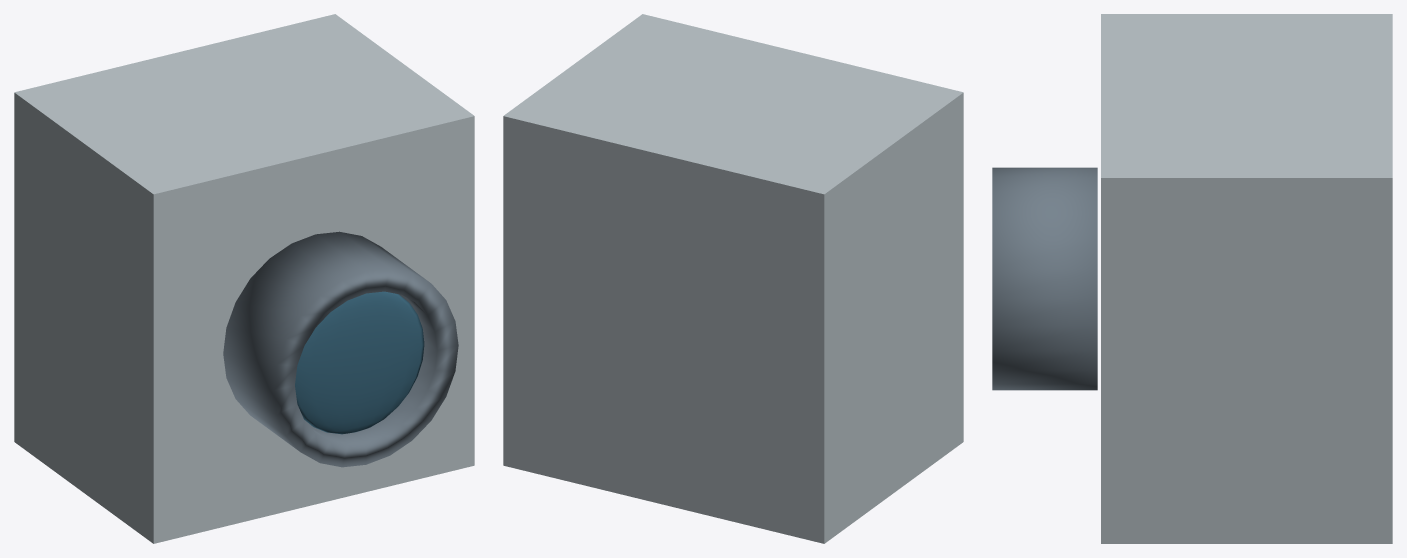
File: curiosity_turret.apxs.glb
3 views of the same model, side by side, from view 1: azimuth 30°, elevation 25°; view 2: azimuth 150°, elevation 25°; view 3: azimuth 270°, elevation 25° (orthographic). The views are drawn at different scales.
Parts seen in each view (by area): view 1: curiosity_turret.apxs.mesh_Satin_aluminum, curiosity_turret.apxs.aperture.mesh_Machined_steel, curiosity_turret.apxs.aperture.lens.mesh_Coated_optical_glas; view 2: curiosity_turret.apxs.mesh_Satin_aluminum; view 3: curiosity_turret.apxs.mesh_Satin_aluminum, curiosity_turret.apxs.aperture.mesh_Machined_steel.
Part boxes in pixels (x1,y1,x2,y2): curiosity_turret.apxs.mesh_Satin_aluminum: [14, 14, 474, 543]; curiosity_turret.apxs.aperture.mesh_Machined_steel: [223, 231, 458, 467]; curiosity_turret.apxs.aperture.lens.mesh_Coated_optical_glas: [295, 291, 424, 434]; curiosity_turret.apxs.mesh_Satin_aluminum: [503, 14, 963, 543]; curiosity_turret.apxs.mesh_Satin_aluminum: [1101, 14, 1392, 543]; curiosity_turret.apxs.aperture.mesh_Machined_steel: [992, 167, 1097, 390].
Size of the model in its own units: 0.125 by 0.13 by 0.129.
